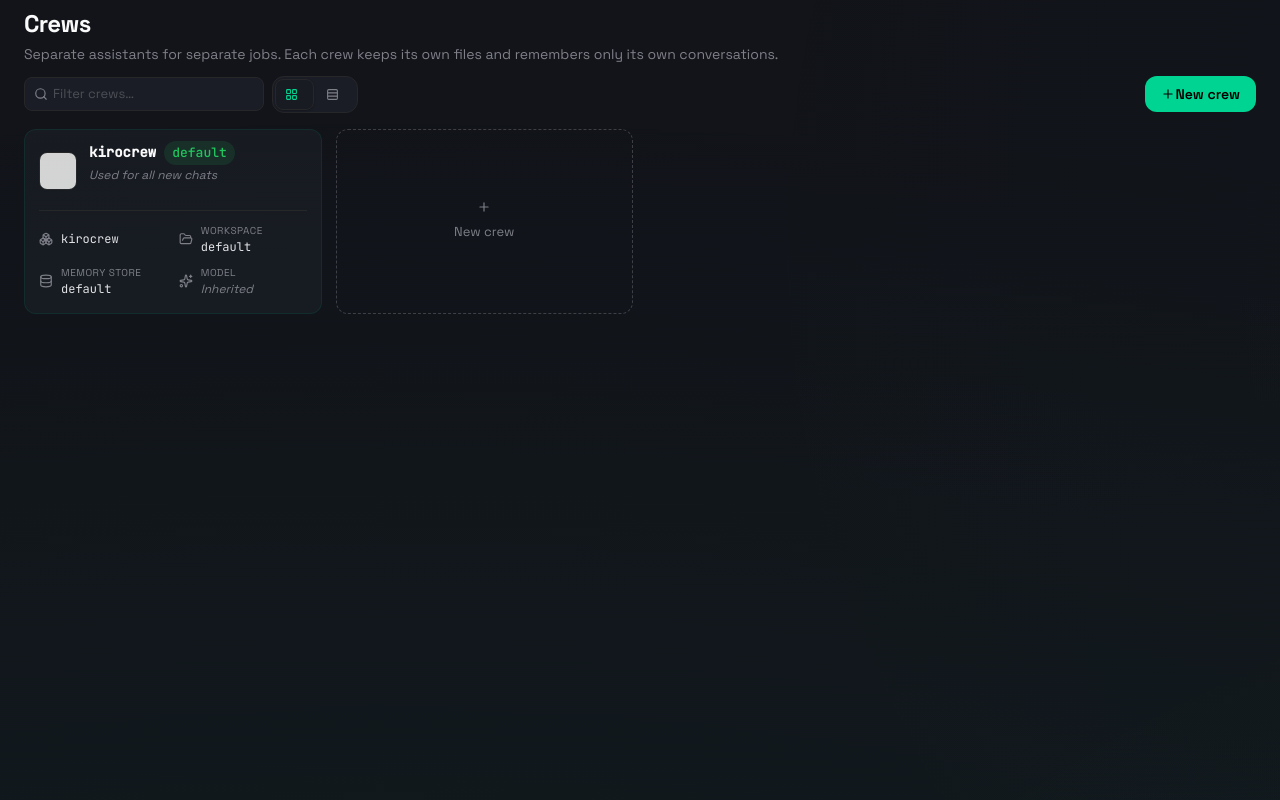
Scenario: WorkspaceModal — StyledSelect trigger and modal lifecycle › workspace dropdown contains "+ New workspace…" action
Click the button with test id "new-crew".
click(1201, 94)  # box [1145,76,1256,112]
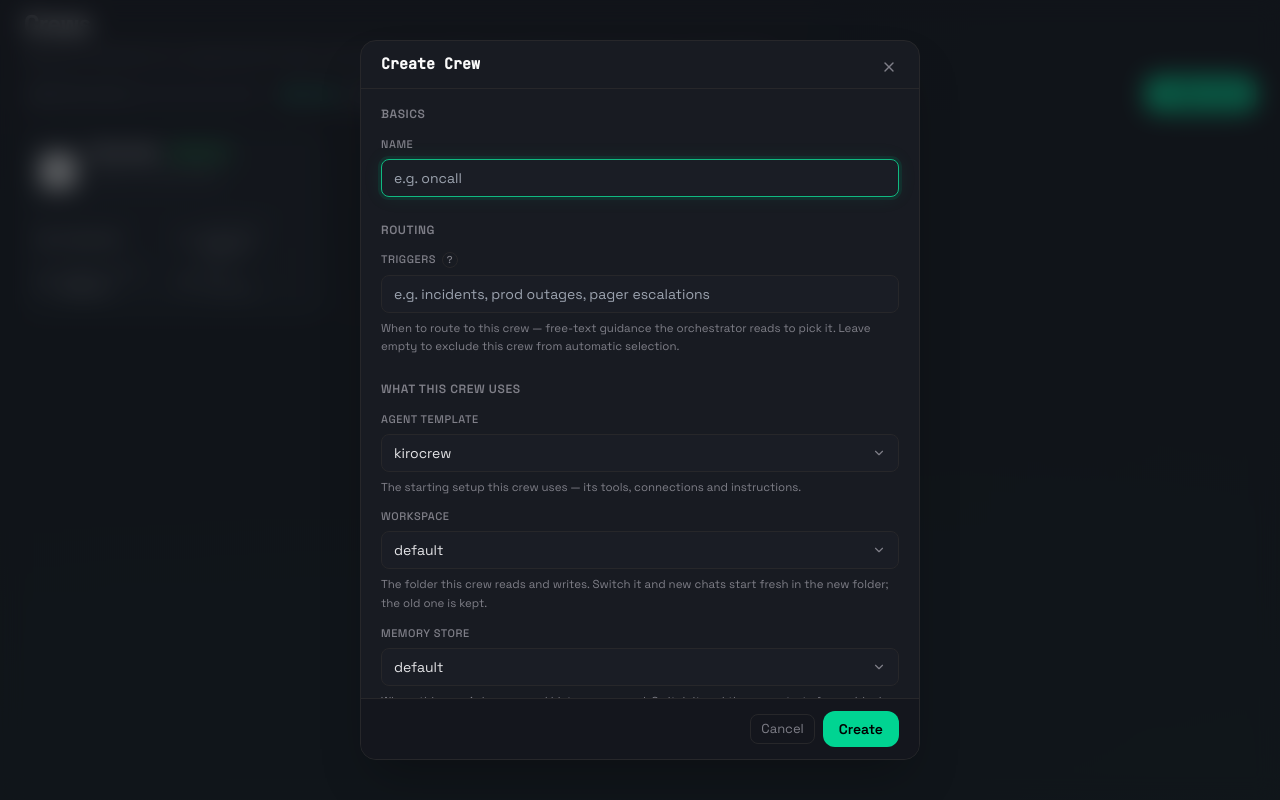
Click the dropdown named "Workspace".
click(419, 550)  # box [381,531,899,569]
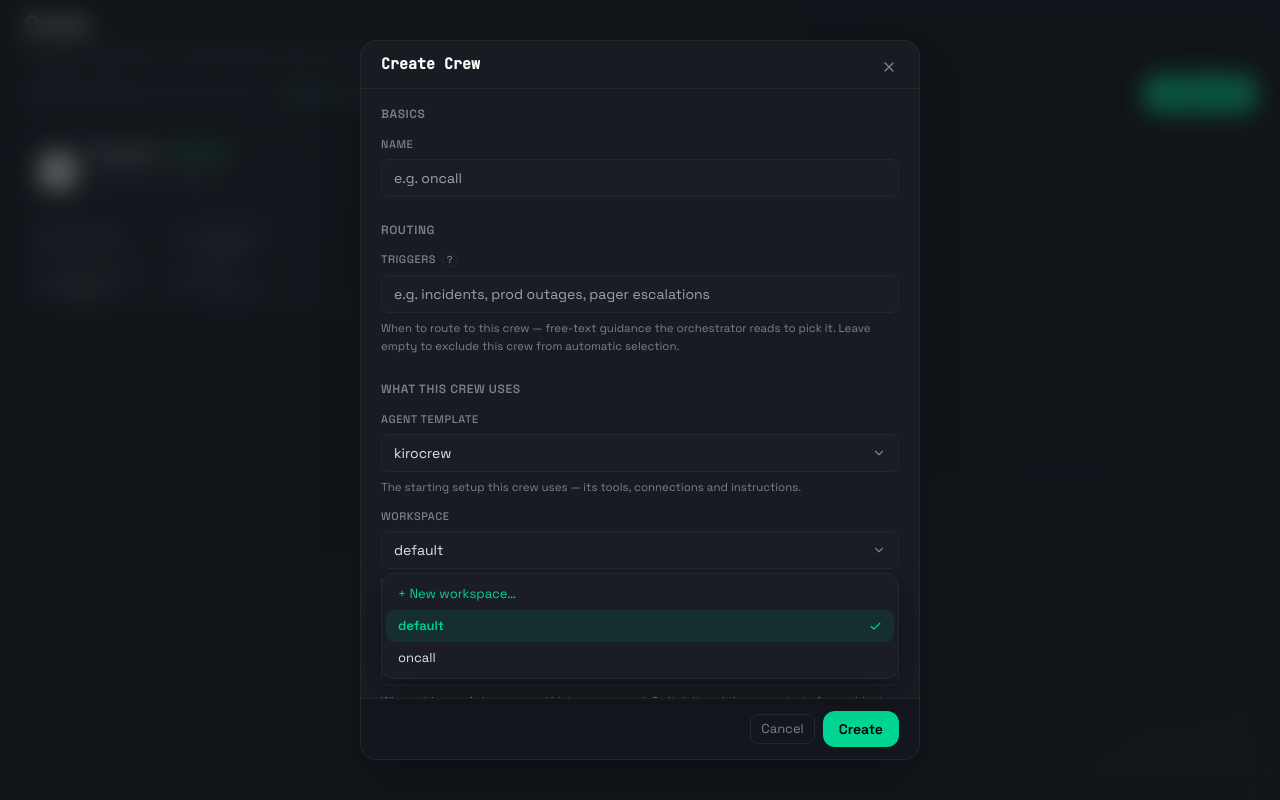
expect the text "+ New workspace…" is shown: met, box [398,584,516,604]
